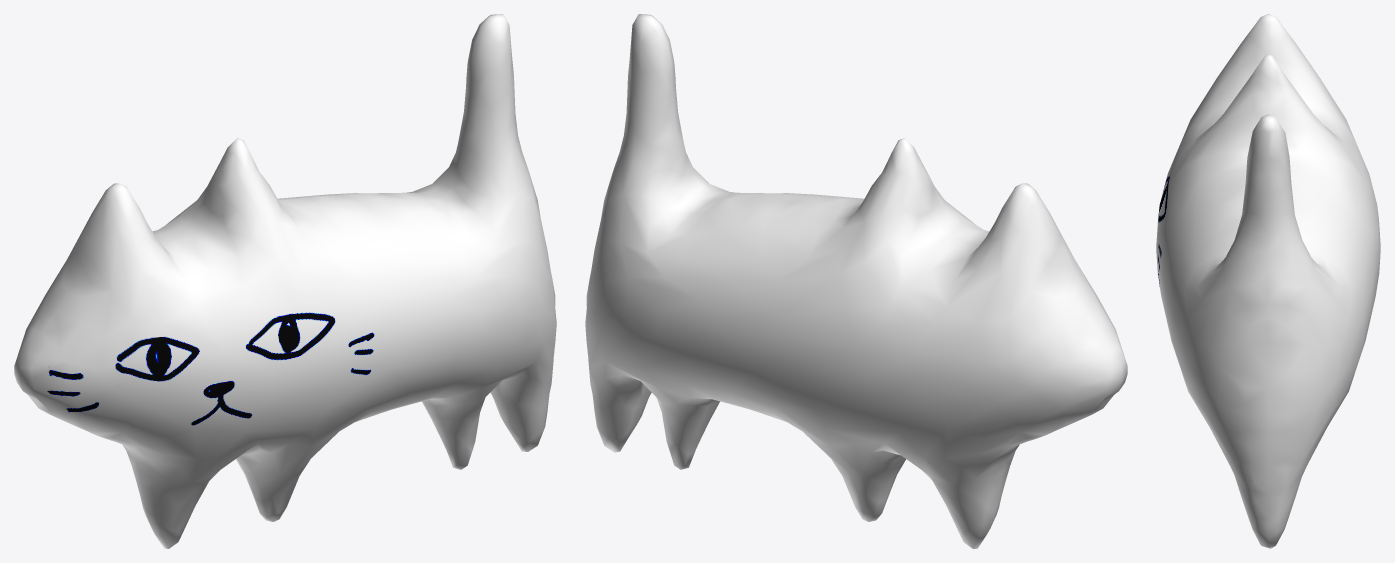
Rendered from neco.glb.
3 views of the same model, side by side, from view 1: azimuth 30°, elevation 25°; view 2: azimuth 150°, elevation 25°; view 3: azimuth 270°, elevation 25° (orthographic). The views are drawn at different scales.
Parts seen in each view (by area): view 1: mm_frame; view 2: mm_frame; view 3: mm_frame.
Part boxes in pixels (box(x1,y1,x2,y2)): mm_frame: box(14, 14, 556, 548); mm_frame: box(585, 14, 1127, 548); mm_frame: box(1156, 14, 1380, 548).
Bounding box in the file's own units: 7.86 × 6.43 × 3.07.
Materials: 1 (1 with a texture image).
